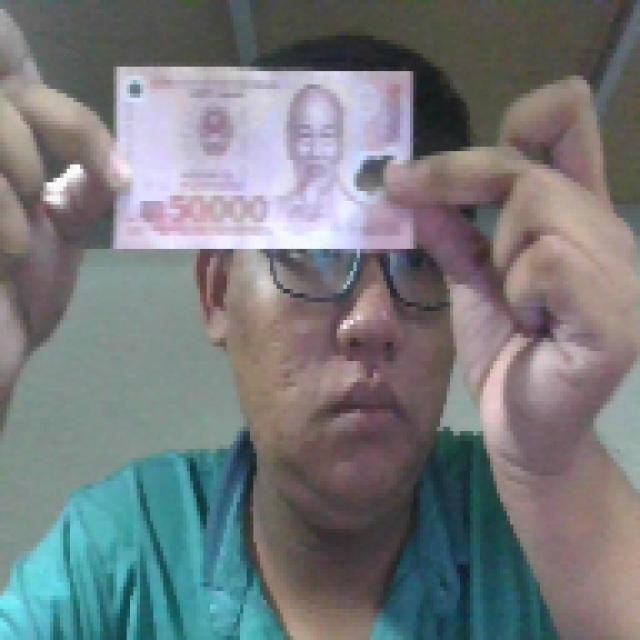50 000 VND: (107, 58, 420, 253)
